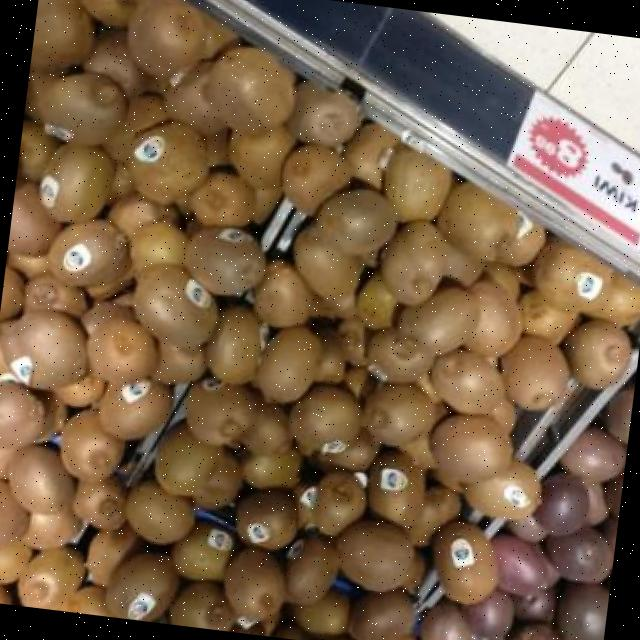kiwi: (204, 45, 292, 130), (133, 264, 217, 348), (1, 307, 85, 388), (128, 120, 205, 202), (435, 181, 515, 259), (80, 300, 156, 382), (126, 0, 205, 77), (41, 72, 125, 143), (39, 142, 114, 221), (533, 237, 612, 308), (336, 518, 413, 590), (183, 226, 265, 293), (429, 414, 511, 480), (380, 220, 444, 304), (48, 218, 127, 284), (432, 520, 495, 602), (397, 286, 475, 352), (104, 551, 178, 620), (316, 187, 394, 252), (383, 145, 450, 220), (280, 143, 351, 213), (501, 334, 567, 409), (254, 325, 320, 400), (289, 384, 360, 452), (154, 423, 222, 494), (293, 225, 359, 297), (59, 408, 124, 481), (562, 319, 630, 388), (185, 377, 253, 445), (287, 79, 361, 141), (163, 61, 225, 135), (8, 444, 74, 513), (432, 348, 503, 412), (462, 278, 520, 356), (465, 459, 540, 519), (101, 93, 167, 161), (123, 478, 193, 542), (362, 382, 435, 443), (224, 546, 284, 620), (97, 378, 171, 437), (16, 546, 84, 610), (367, 448, 423, 525), (82, 27, 143, 97), (205, 305, 259, 383), (29, 0, 92, 66), (6, 181, 60, 255), (229, 125, 293, 187), (254, 258, 312, 325), (343, 121, 398, 189), (234, 488, 295, 549), (283, 535, 336, 602), (171, 522, 232, 580), (189, 170, 253, 225), (312, 469, 365, 535), (368, 327, 433, 380), (346, 588, 411, 640), (404, 483, 459, 544), (169, 580, 233, 631), (519, 289, 577, 344), (85, 524, 137, 584), (106, 192, 176, 236), (130, 219, 186, 271), (71, 476, 125, 529), (191, 450, 239, 508), (495, 211, 545, 265), (25, 272, 87, 315), (316, 426, 378, 469), (241, 400, 291, 453), (587, 273, 640, 323), (0, 381, 42, 443), (241, 446, 301, 488), (24, 505, 81, 548), (291, 589, 348, 632), (354, 271, 396, 328), (20, 119, 56, 179), (152, 340, 202, 382), (313, 324, 344, 383), (0, 481, 27, 546), (53, 375, 105, 405), (82, 0, 143, 25), (337, 317, 365, 364), (0, 264, 23, 319), (0, 540, 30, 580), (6, 250, 47, 278), (293, 482, 317, 529), (251, 186, 280, 222), (485, 397, 514, 432), (0, 446, 16, 476)
